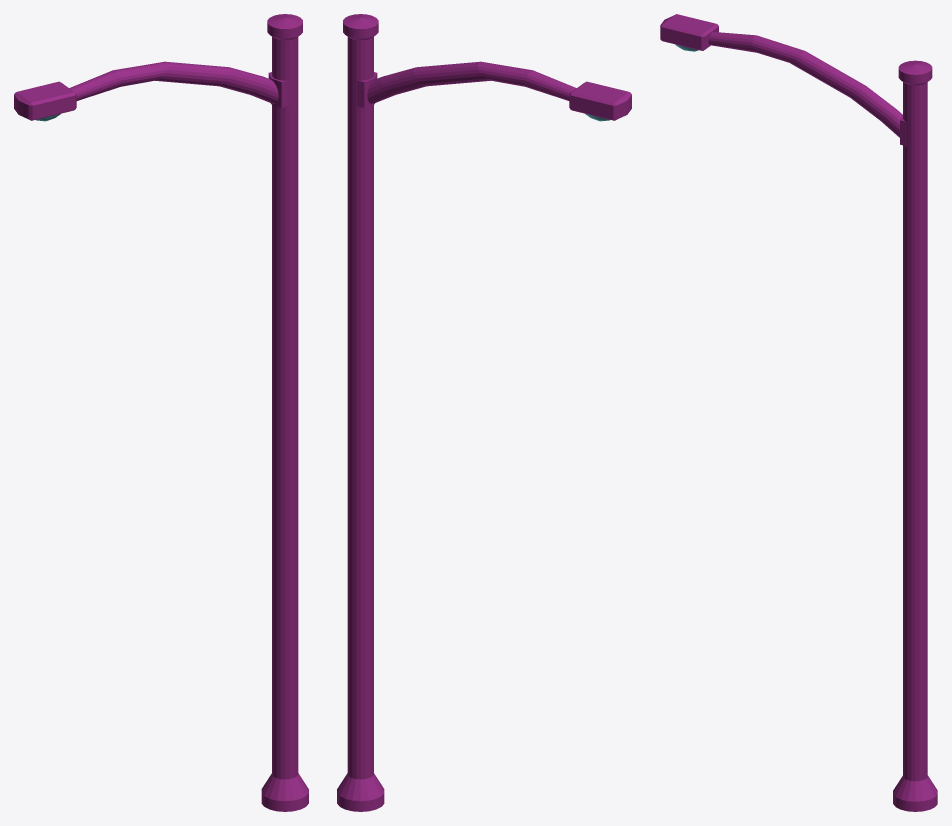
File: Verkeerslicht.FBX
The picture shows the model from 3 angles, left to right: view 1: azimuth 30°, elevation 25°; view 2: azimuth 150°, elevation 25°; view 3: azimuth 330°, elevation 25°; orthographic projection. The views are drawn at different scales.
Parts seen in each view (by area): view 1: Cylinder001; view 2: Cylinder001; view 3: Cylinder001.
Part boxes in pixels (x1,y1,x2,y2): Cylinder001: (14, 14, 308, 811); Cylinder001: (337, 14, 631, 811); Cylinder001: (660, 14, 937, 811).
Size of the model in its own units: 61.15 by 159 by 8.74.
